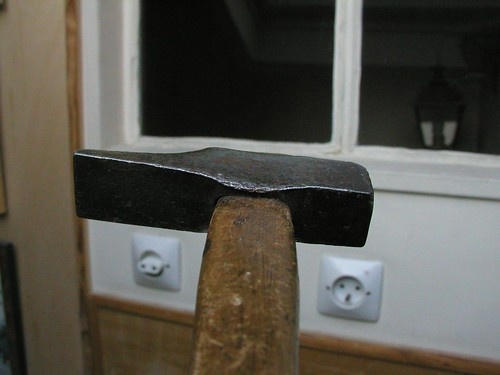hammer: (70, 144, 374, 374)
